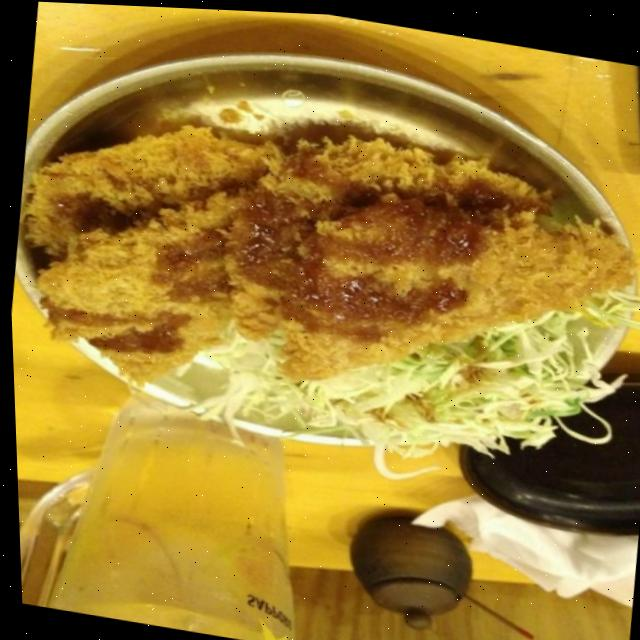炸货点心: (0, 17, 640, 495)
